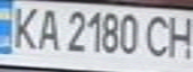0: (118, 10, 142, 56)
1: (84, 8, 106, 53)
2: (63, 7, 87, 53)
8: (100, 9, 124, 54)
A: (33, 4, 63, 52)
C: (142, 11, 175, 60)
H: (163, 11, 193, 61)
K: (6, 2, 42, 51)
